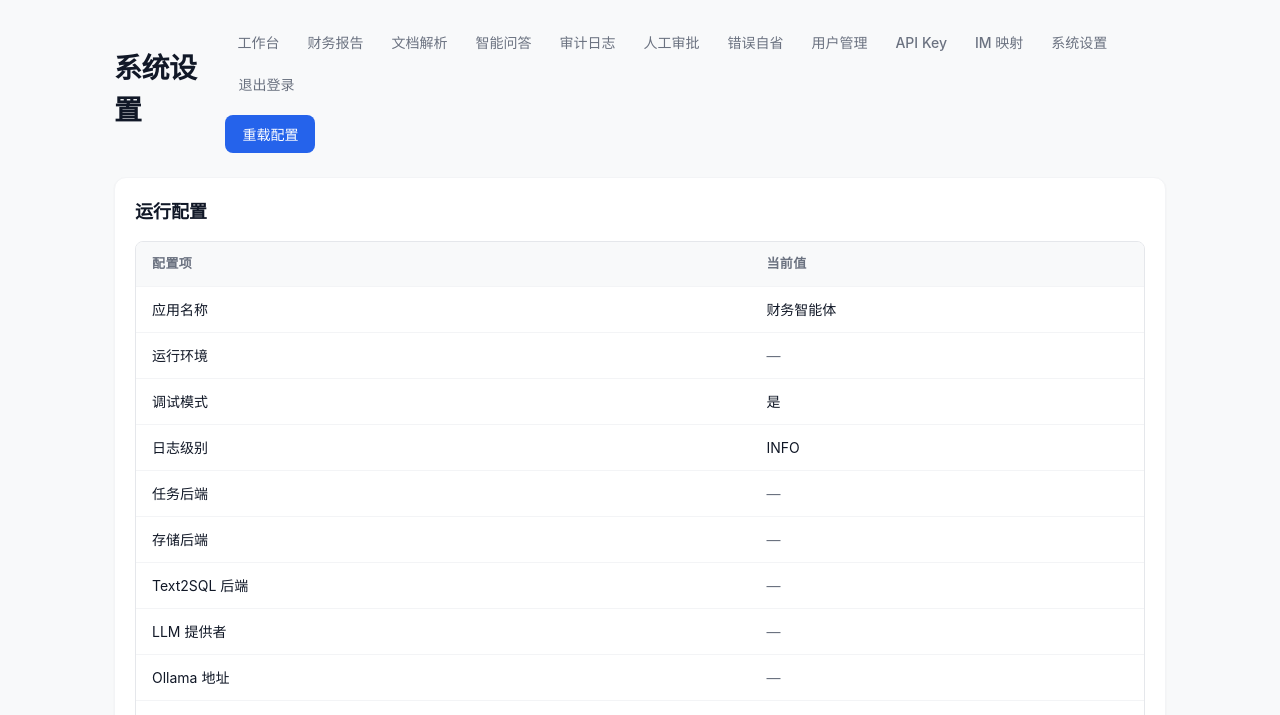
Test: SettingsPage › 重载配置失败时展示错误信息
Expected: the heading "运行配置" is shown, x1=135 y1=201 x2=207 y2=222
Click the button "重载配置": (270, 134) x1=225 y1=115 x2=315 y2=153
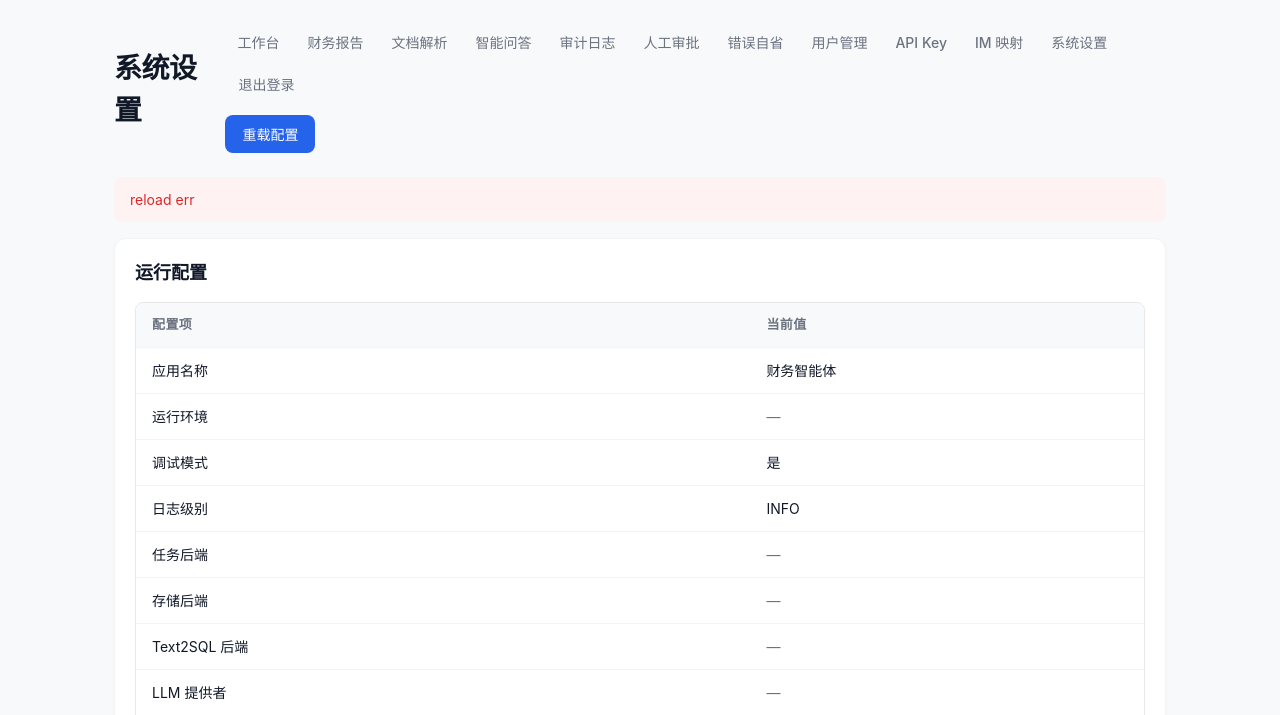
Expected: the text "reload err" is shown, x1=114 y1=177 x2=1166 y2=222
